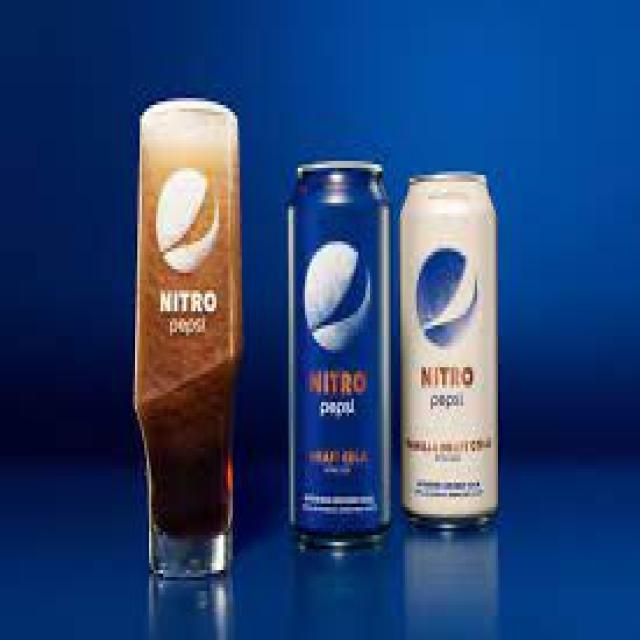Cans: (277, 147, 400, 566), (396, 154, 512, 545)
